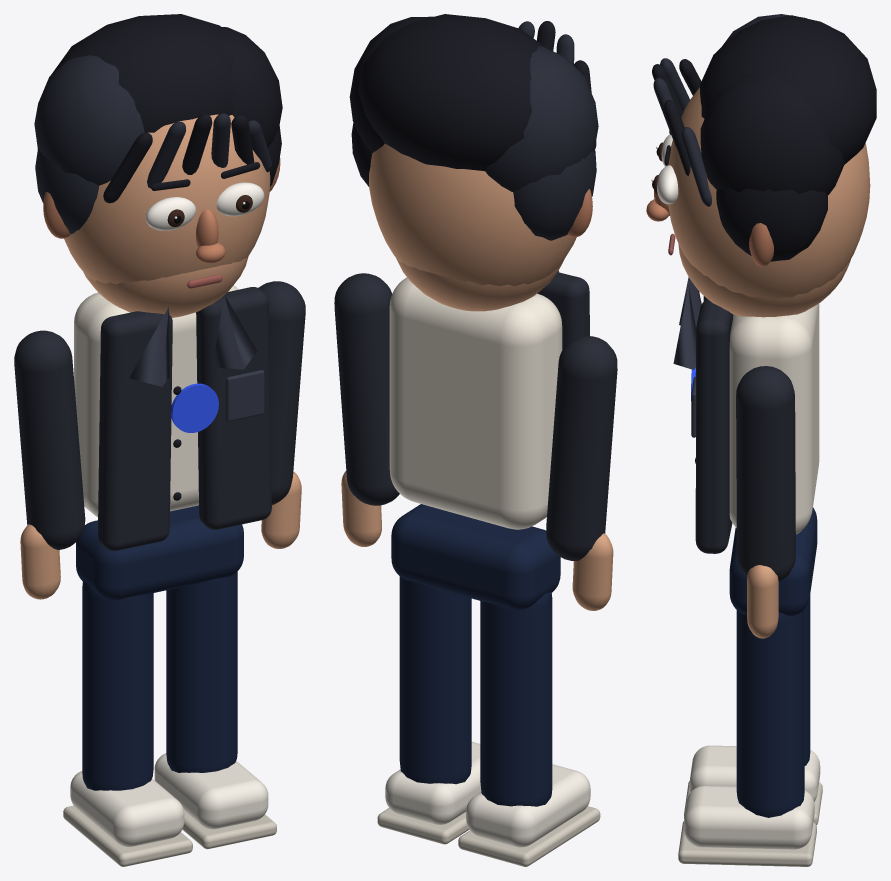
Rendered from chunxiang-avatar.glb.
The picture shows the model from 3 angles, left to right: view 1: azimuth 30°, elevation 25°; view 2: azimuth 150°, elevation 25°; view 3: azimuth 270°, elevation 25°; orthographic projection. The views are drawn at different scales.
Parts seen in each view (by area): view 1: 面部主体, 左侧外套, 左腿, 右腿, 右侧外套, 后层头发1, 左手臂, 后层头发2, 裤腰, 米白内搭, 右手臂, 左鞋面 (+22 smaller); view 2: 米白内搭, 后层头发1, 面部主体, 左腿, 右腿, 左手臂, 裤腰, 右手臂, 后层头发2, 左鞋面, 后层头发4, 右鞋面 (+9 smaller); view 3: 面部主体, 右腿, 后层头发1, 后层头发3, 右手臂, 米白内搭, 右侧外套, 右鞋面, 后层头发5, 裤腰, 下颌, 右鞋底 (+10 smaller).
Part boxes in pixels (box(x1,y1,x2,y2)): 面部主体: box(64, 114, 270, 284); 左侧外套: box(98, 311, 172, 551); 左腿: box(82, 581, 153, 790); 右腿: box(166, 571, 237, 772); 右侧外套: box(196, 287, 271, 529); 后层头发1: box(51, 14, 233, 132); 左手臂: box(14, 330, 85, 549); 后层头发2: box(34, 55, 144, 185); 裤腰: box(76, 505, 243, 600); 米白内搭: box(74, 285, 237, 517); 右手臂: box(258, 281, 305, 504); 左鞋面: box(70, 771, 184, 846); 米白内搭: box(389, 277, 562, 529); 后层头发1: box(358, 14, 547, 171); 面部主体: box(369, 143, 576, 286); 左腿: box(480, 591, 552, 806); 右腿: box(399, 576, 471, 784); 左手臂: box(546, 336, 617, 561); 裤腰: box(391, 504, 560, 610); 右手臂: box(334, 273, 399, 505); 后层头发2: box(485, 46, 598, 191); 左鞋面: box(466, 764, 590, 847); 后层头发4: box(513, 149, 596, 240); 右鞋面: box(385, 741, 481, 824); 面部主体: box(667, 87, 870, 298); 右腿: box(736, 609, 804, 817); 后层头发1: box(700, 15, 876, 164); 后层头发3: box(700, 74, 845, 194); 右手臂: box(736, 366, 795, 581); 米白内搭: box(729, 303, 819, 534); 右侧外套: box(695, 299, 732, 553); 右鞋面: box(684, 785, 814, 849); 后层头发5: box(716, 188, 827, 261); 裤腰: box(729, 507, 817, 615); 下颌: box(678, 244, 850, 317); 右鞋底: box(678, 821, 816, 866).
Size of the model in its own units: 1.96 by 5.37 by 1.4.
